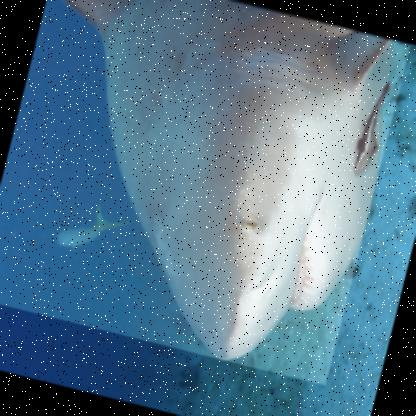bulldog-shark: (0, 0, 411, 388)
